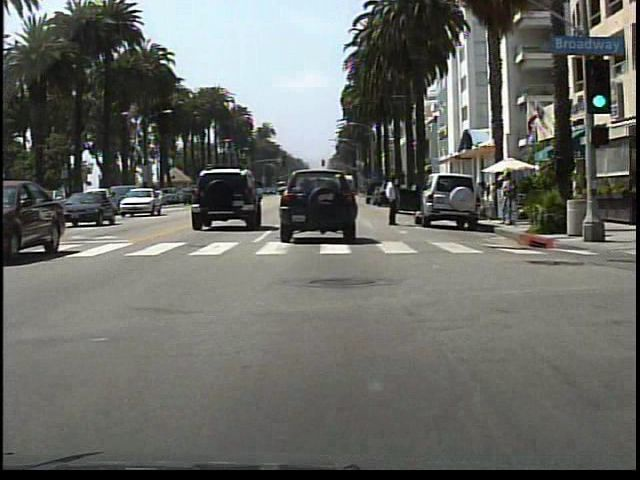person: (379, 171, 404, 230)
